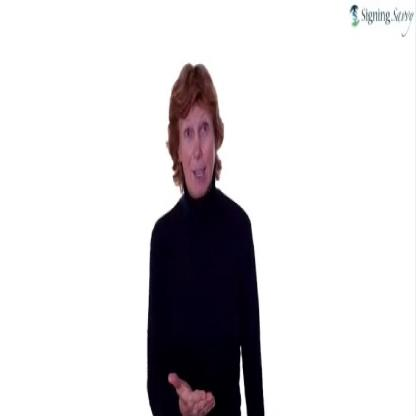ThankYou: (140, 64, 266, 416)
